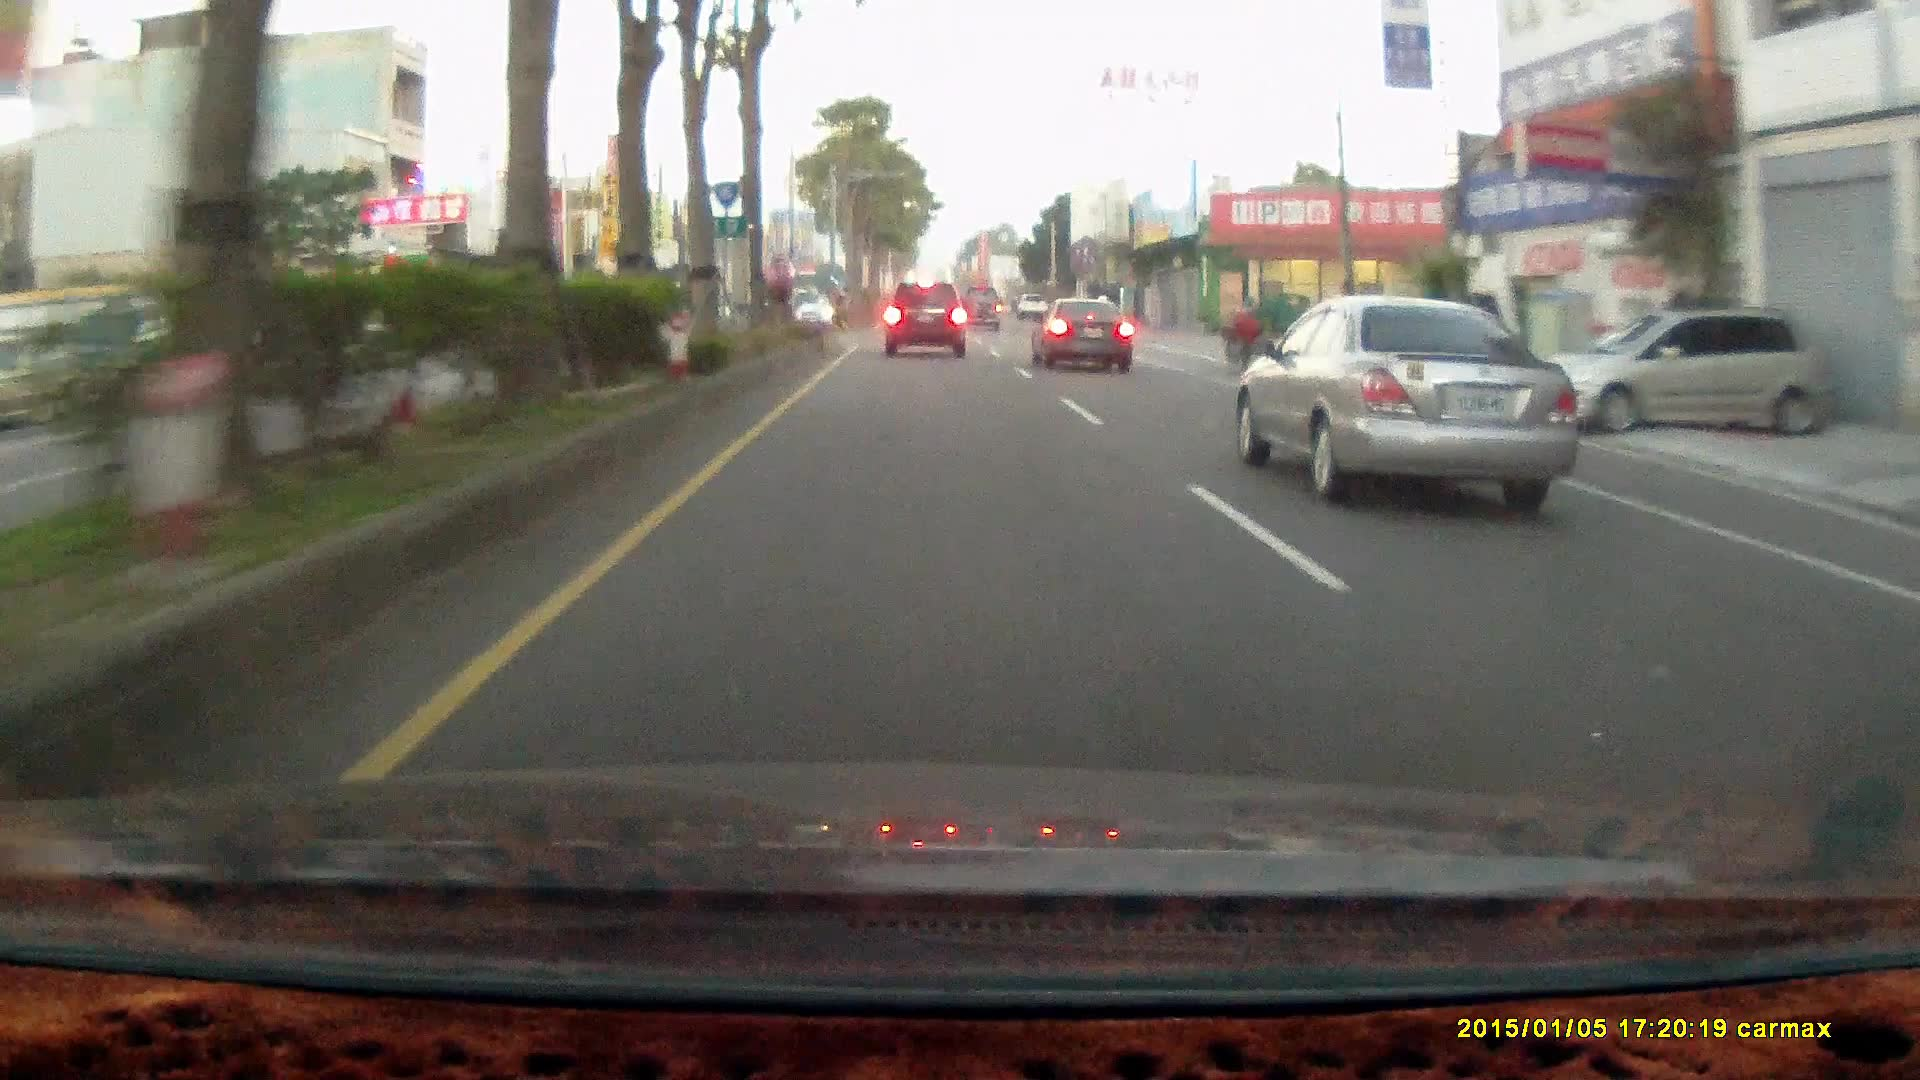pedestrian: (1234, 302, 1263, 377), (1237, 301, 1262, 370)
vehicle: (1238, 296, 1574, 505), (1542, 301, 1826, 434), (1548, 304, 1828, 437), (1032, 296, 1137, 376), (1030, 288, 1132, 366), (0, 329, 80, 423), (882, 275, 970, 355), (884, 284, 965, 359), (768, 278, 831, 334), (959, 283, 1001, 329)
